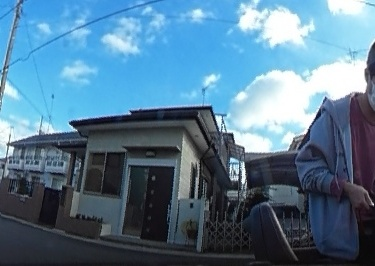person: (300, 33, 375, 262)
